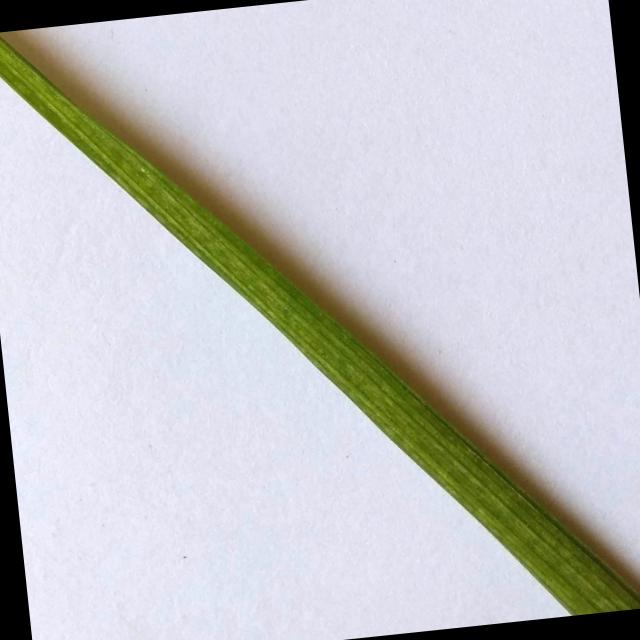Rice_Healthy: (0, 36, 640, 615)
